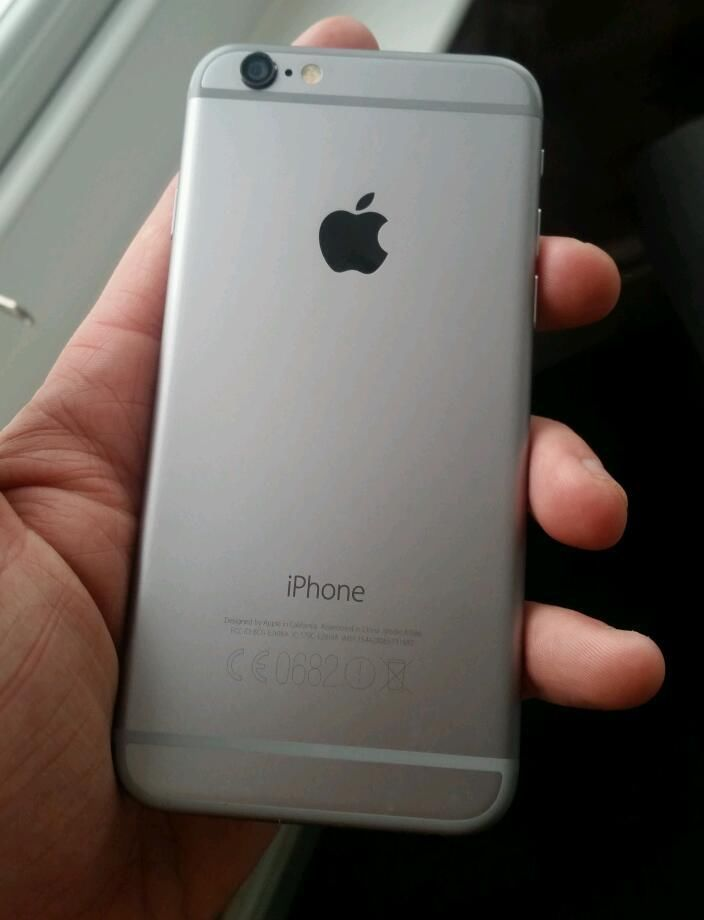apple: (308, 173, 441, 327)
